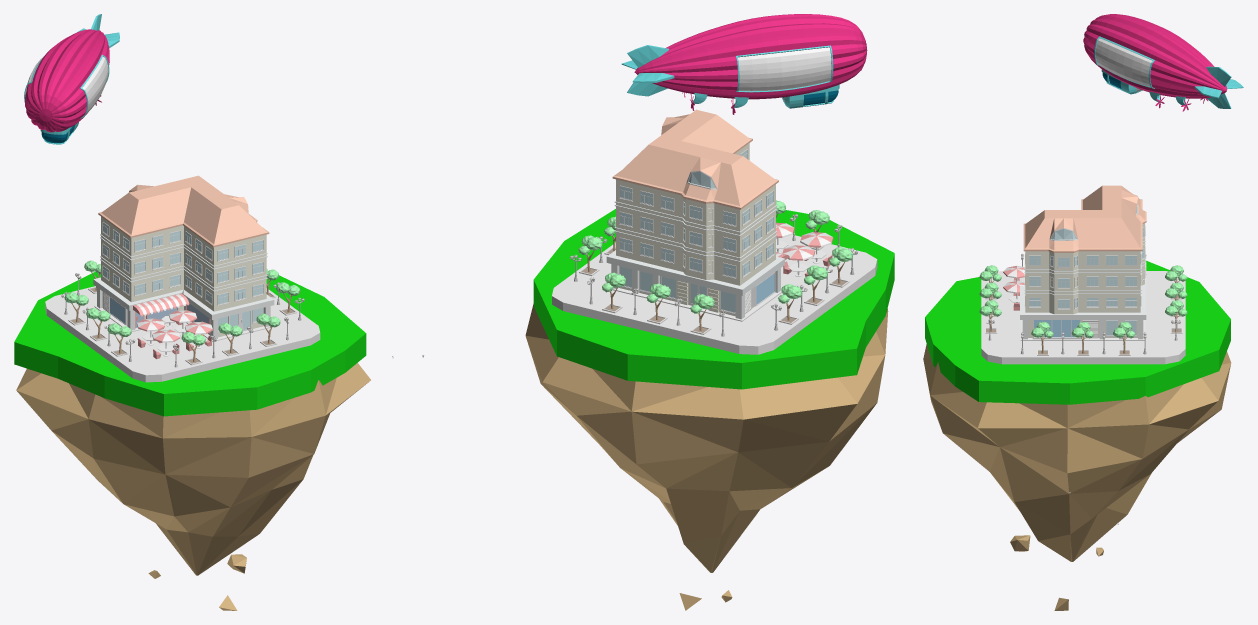
3 renders of one model, left to right at view 1: azimuth 30°, elevation 25°; view 2: azimuth 150°, elevation 25°; view 3: azimuth 270°, elevation 25°, orthographic. The views are drawn at different scales.
Visible parts, largest first — view 1: low_poly_all; view 2: low_poly_all; view 3: low_poly_all.
Part boxes in pixels (x1,y1,x2,y2): low_poly_all: (14,14,393,610); low_poly_all: (422,14,894,610); low_poly_all: (923,14,1243,610).
Size of the model in its own units: 181 by 258 by 141.
